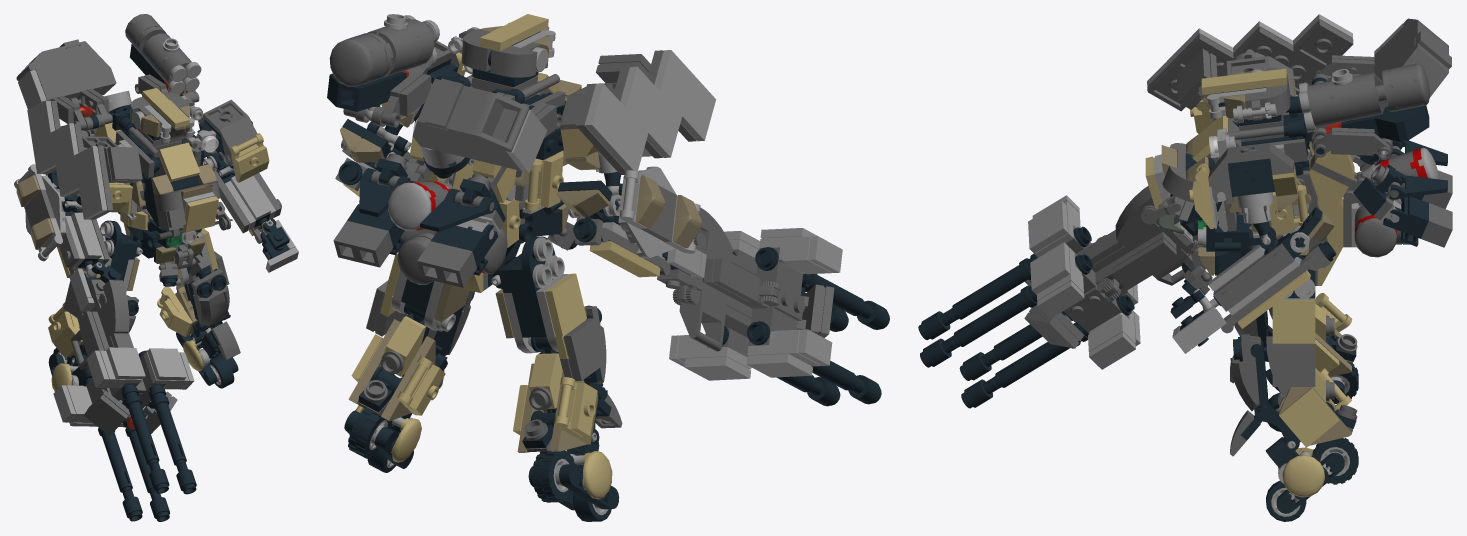
Rendered from ag-03d-baja.dae.
3 views of the same model, side by side, from view 1: azimuth 30°, elevation 25°; view 2: azimuth 150°, elevation 25°; view 3: azimuth 270°, elevation 25° (orthographic). The views are drawn at different scales.
Size of the model in its own units: 372 by 500 by 453.
